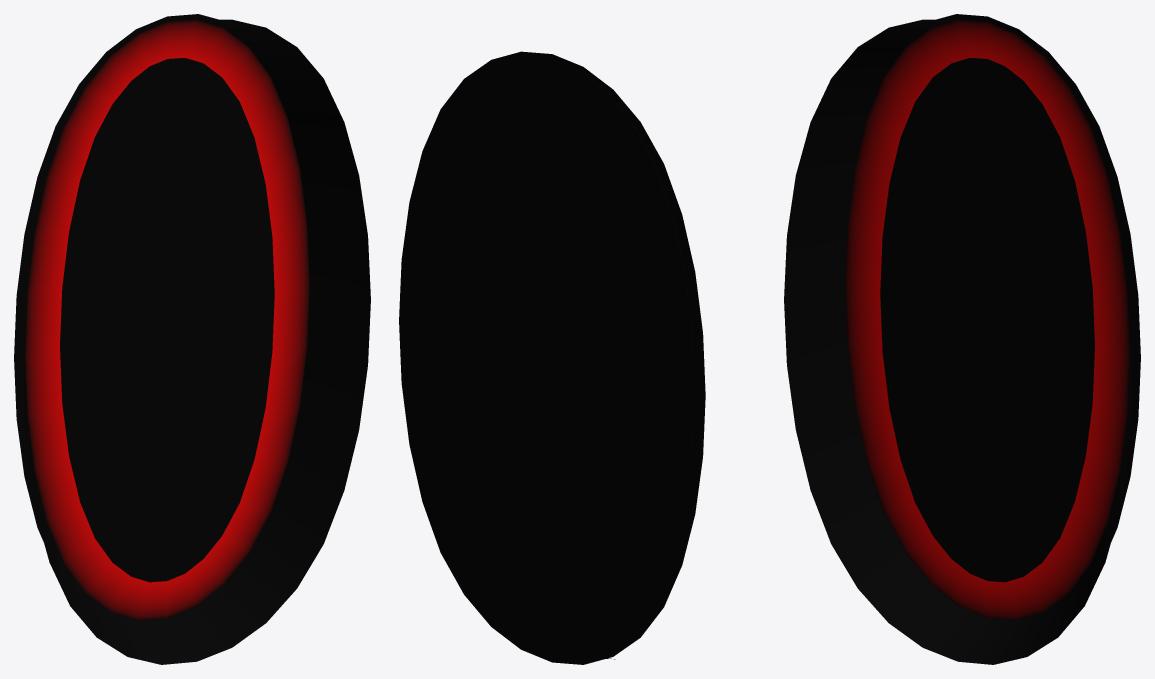
File: Portal.fbx
The picture shows the model from 3 angles, left to right: view 1: azimuth 30°, elevation 25°; view 2: azimuth 150°, elevation 25°; view 3: azimuth 330°, elevation 25°; orthographic projection.
Visible parts, largest first — view 1: Border; view 2: Border; view 3: Border.
Part boxes in pixels (x1,y1,x2,y2): Border: [14, 14, 370, 664]; Border: [399, 51, 705, 664]; Border: [784, 14, 1140, 664].
Size of the model in its own units: 119 by 18 by 210.
